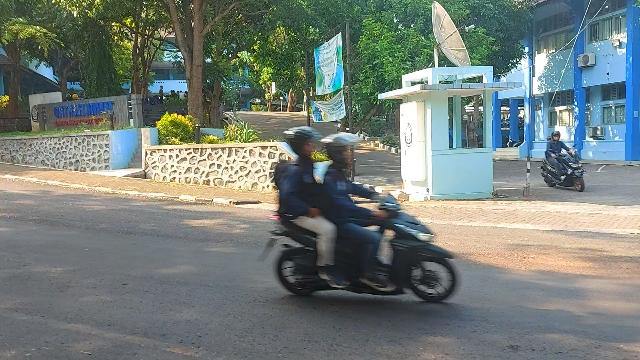helm: (284, 127, 322, 157), (326, 134, 363, 162), (553, 132, 561, 142)
motor: (260, 192, 457, 304), (542, 145, 587, 191)
